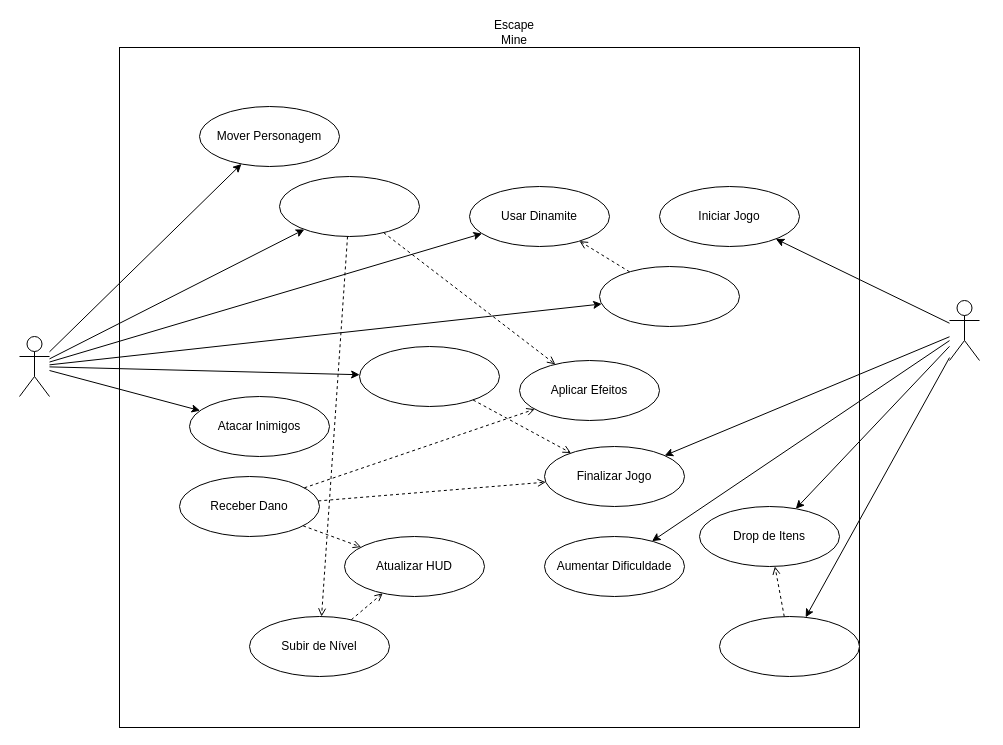
Image size: 1003x745. Some labels were removed from this diagram. Here are the shapes that lost their labels. From the top down, the centre of each, then its label:
the point at 349,206: Coletar Itens
the point at 669,296: Gerenciar Inventário
the point at 964,330: Sistema
the point at 34,366: Player
the point at 429,376: Abrir Porta
the point at 789,646: Spawn de Inimigos
